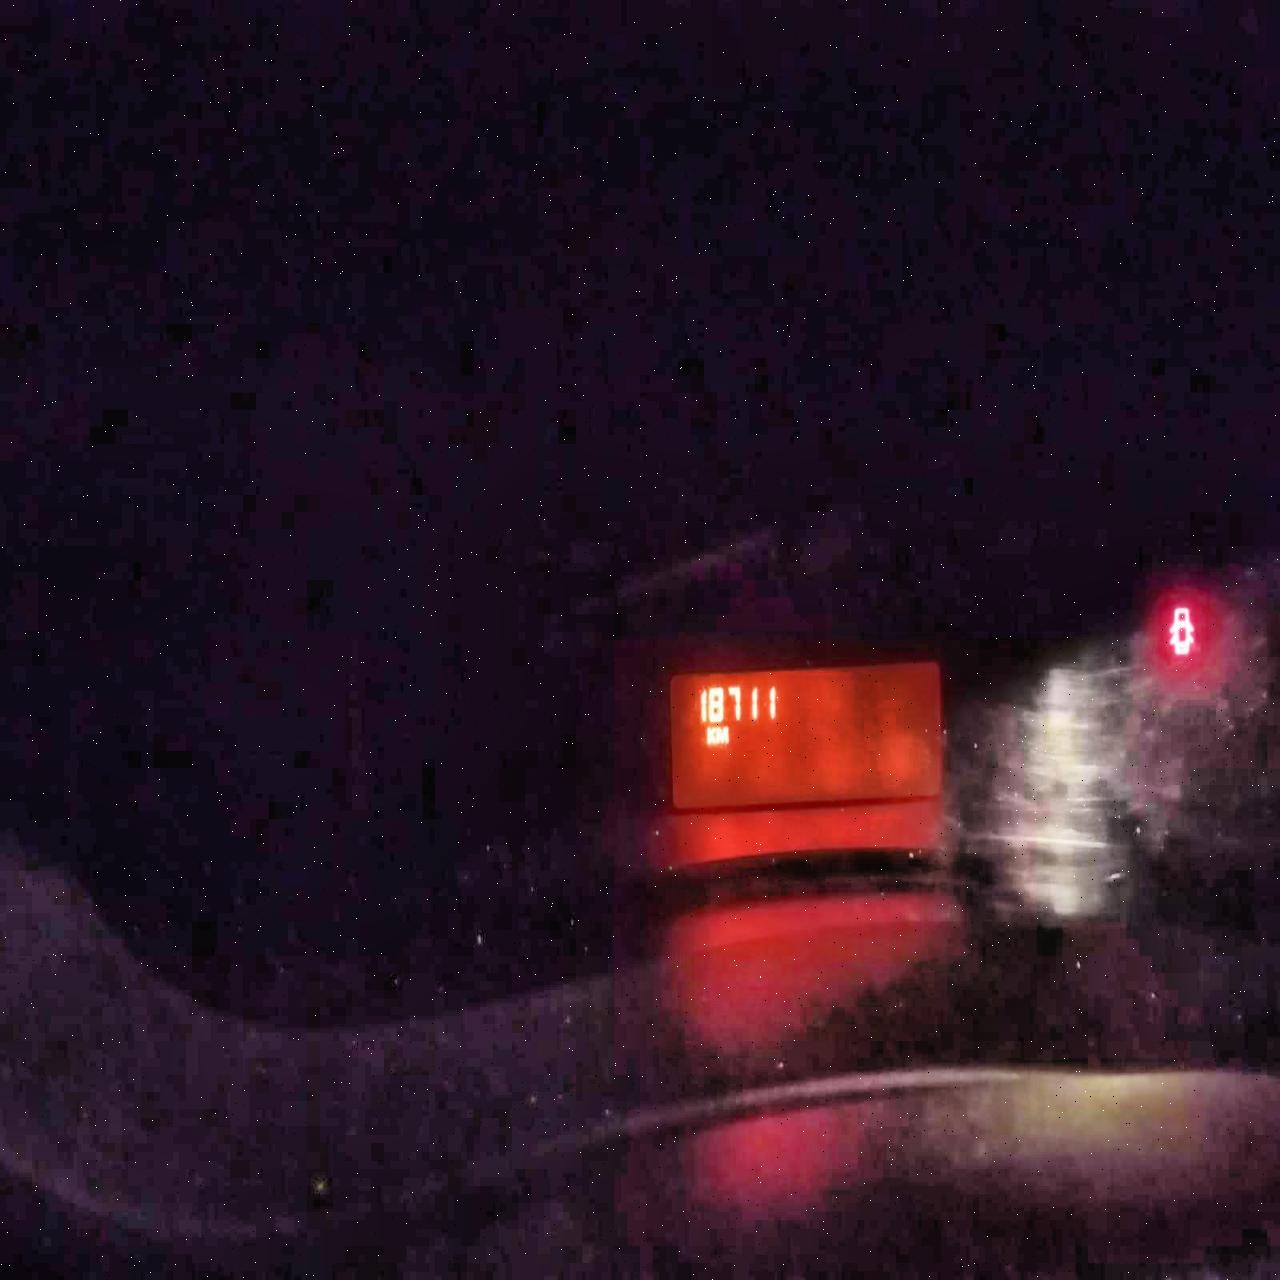1: (747, 683, 760, 721), (696, 686, 708, 726), (765, 682, 777, 720)
7: (727, 680, 744, 719)
8: (707, 681, 723, 727)
X: (716, 723, 730, 744), (706, 726, 716, 745)
odometer: (666, 666, 955, 810)
